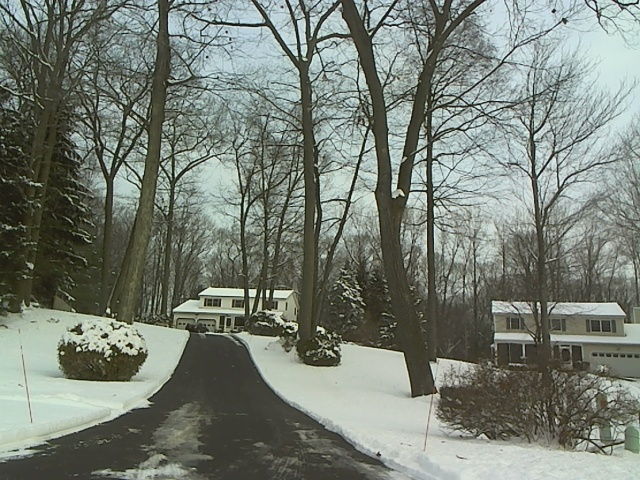Ploughed: (166, 339, 270, 466)
